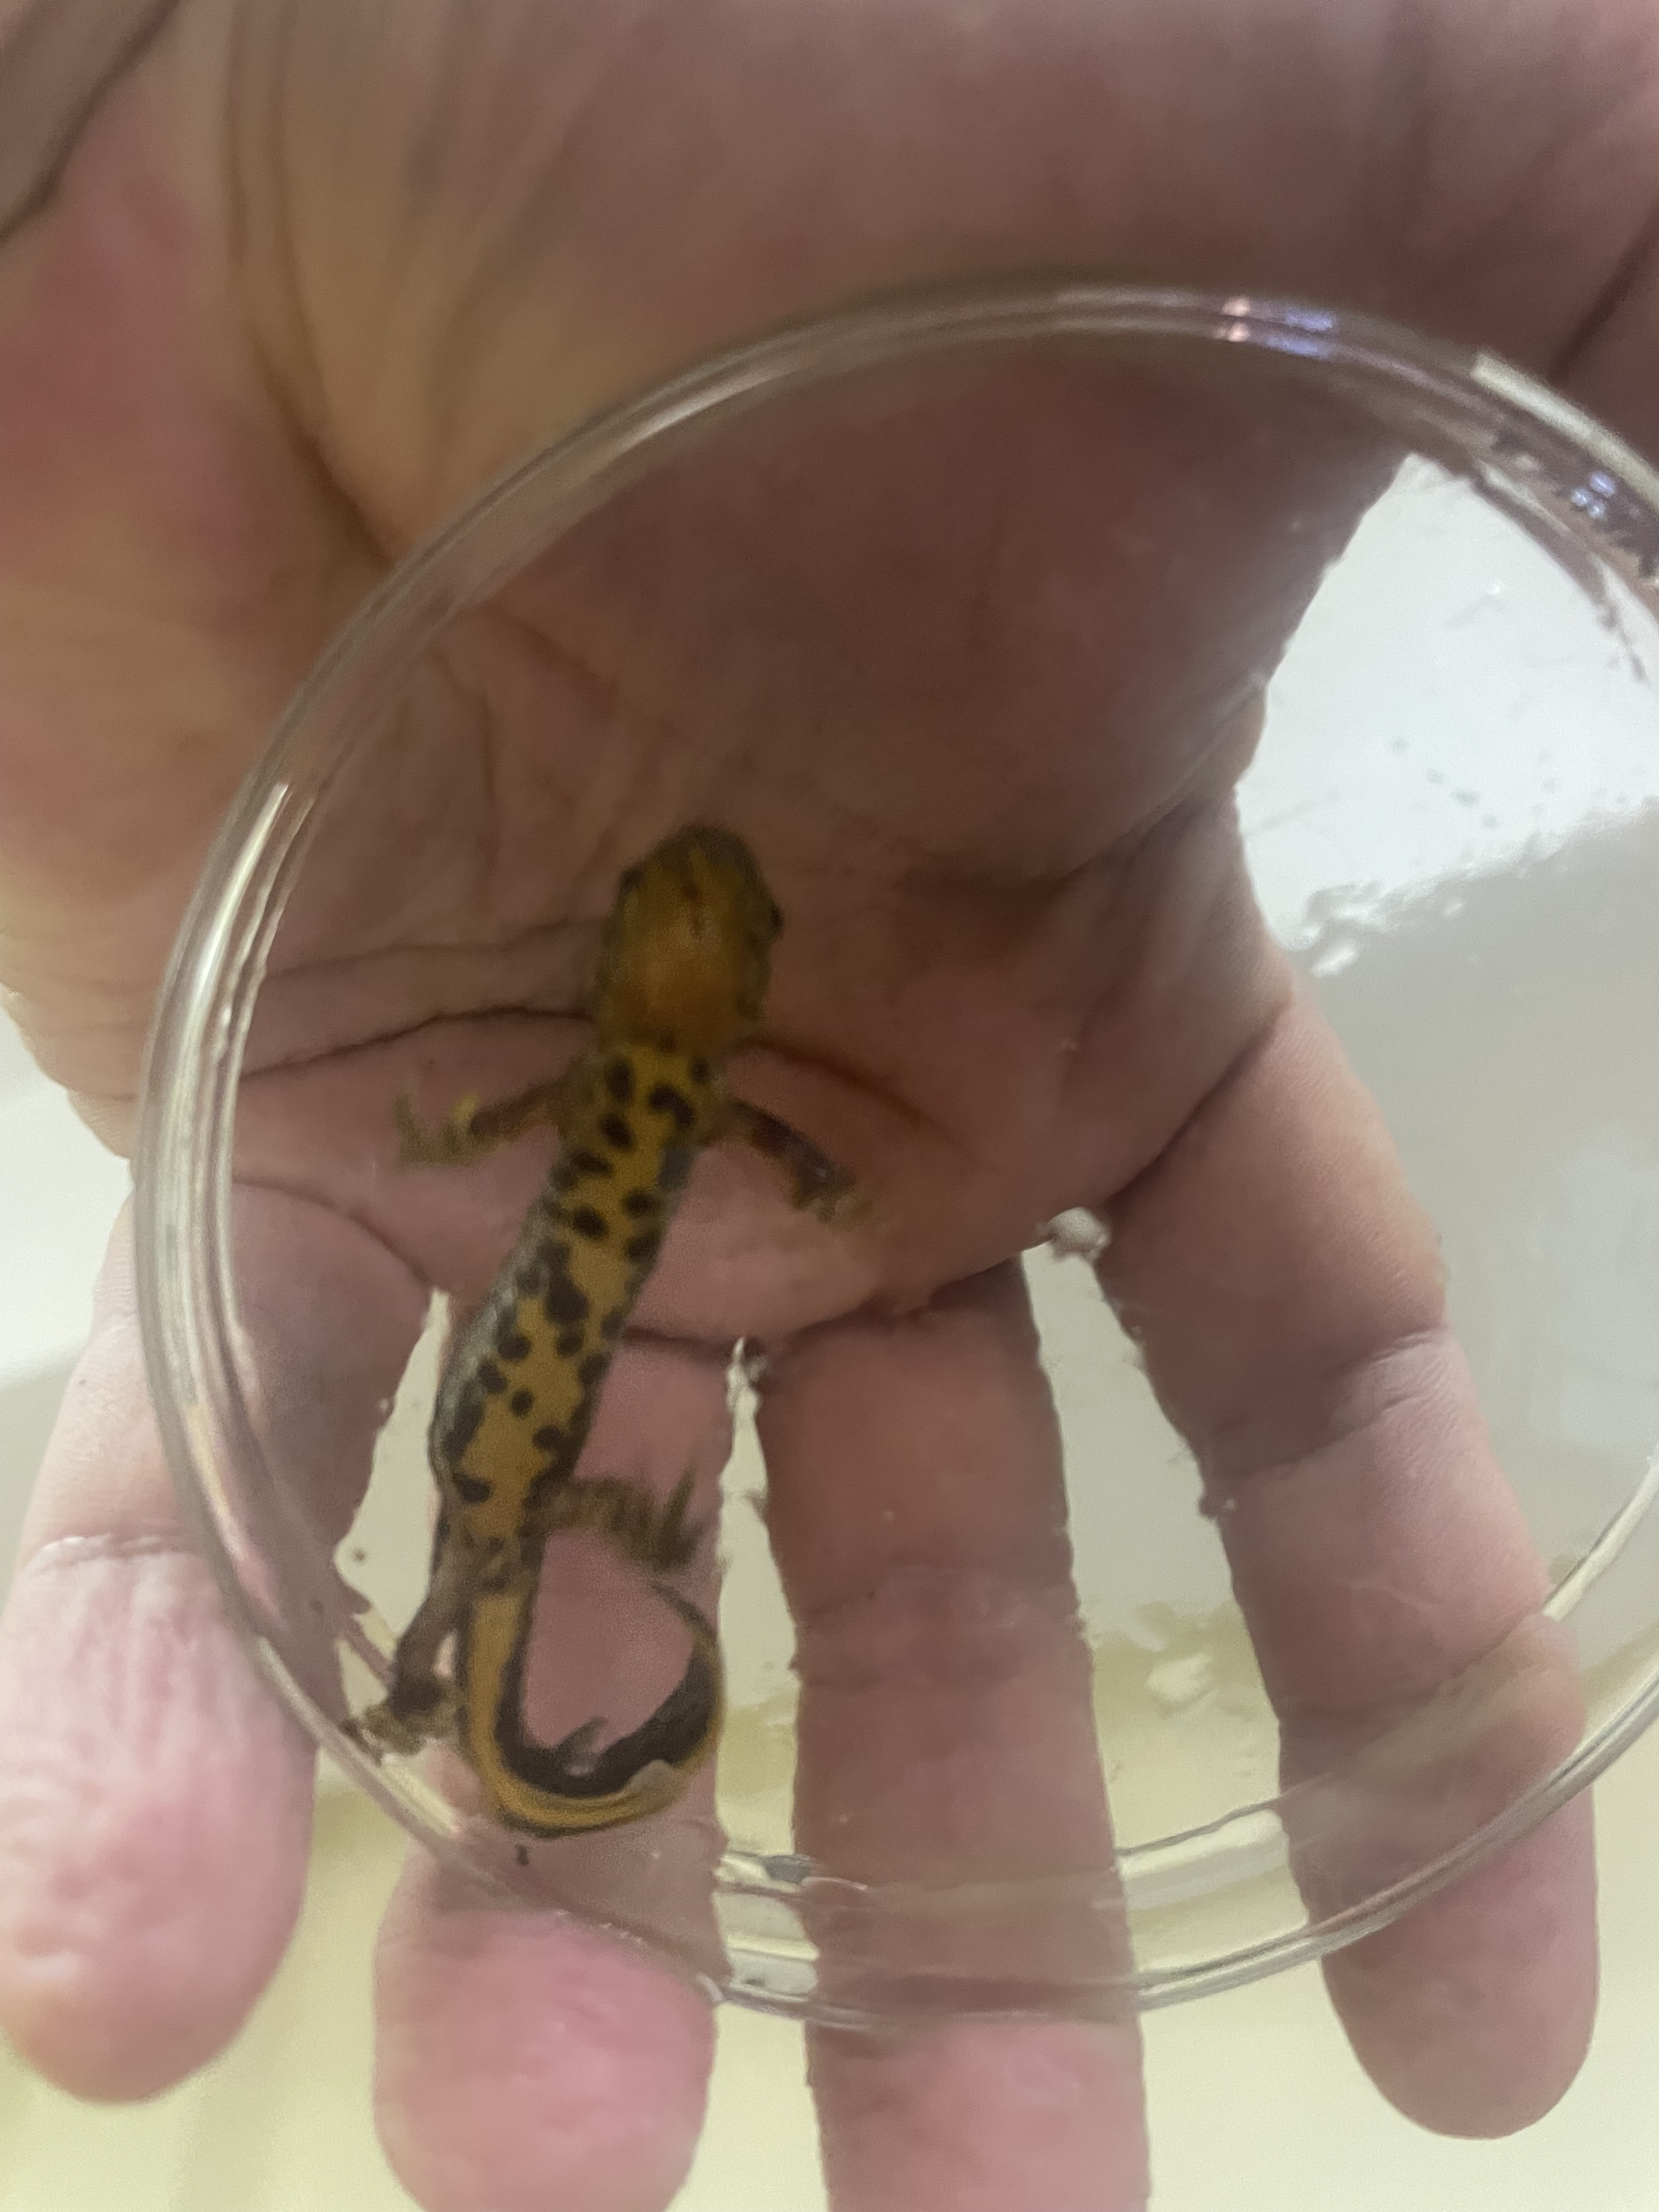Karelin_newt: (427, 1127, 706, 1491)
